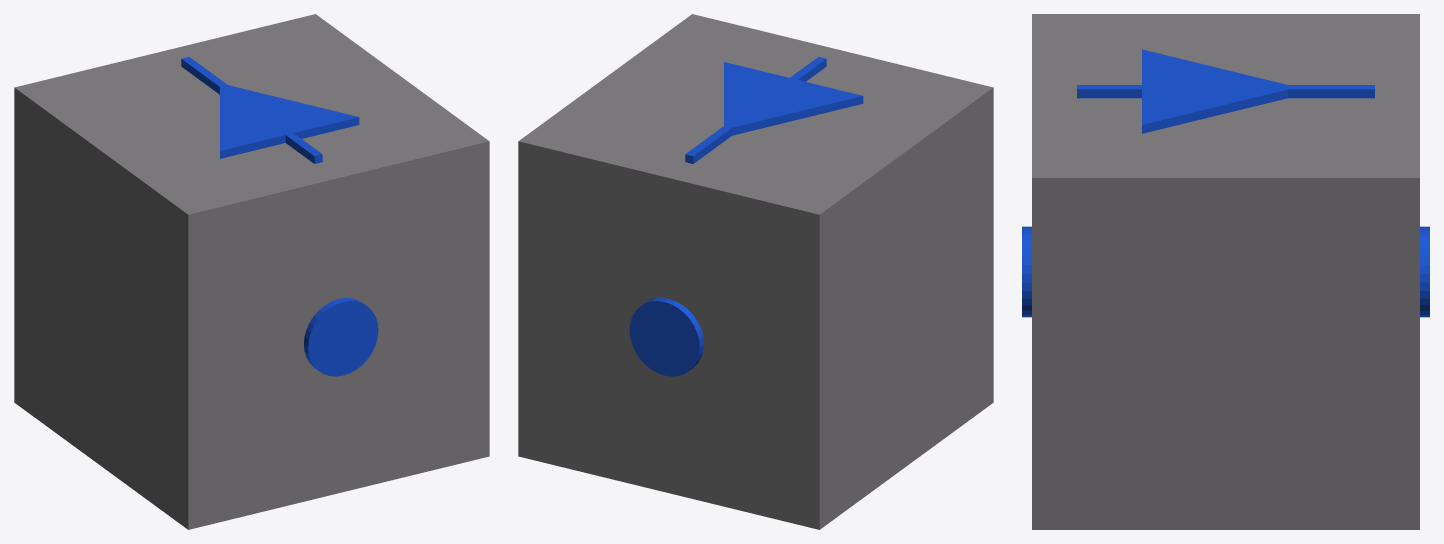
The model's file is BUFFER_gate.fbx.
The picture shows the model from 3 angles, left to right: view 1: azimuth 30°, elevation 25°; view 2: azimuth 150°, elevation 25°; view 3: azimuth 270°, elevation 25°; orthographic projection. The views are drawn at different scales.
Visible parts, largest first — view 1: Cube, Cylinder, Cylinder.002, Cube.003, Cube.001; view 2: Cube, Cylinder, Cylinder.003, Cube.003; view 3: Cube, Cylinder, Cube.003, Cylinder.002, Cylinder.003, Cube.001.
Part boxes in pixels (x1,y1,x2,y2): Cube: (14, 14, 489, 529); Cylinder: (220, 85, 359, 158); Cylinder.002: (304, 298, 378, 376); Cube.003: (181, 57, 234, 94); Cube.001: (280, 124, 322, 163); Cube: (518, 14, 993, 529); Cylinder: (724, 62, 863, 135); Cylinder.003: (629, 298, 703, 376); Cube.003: (685, 120, 739, 163); Cube: (1032, 14, 1419, 529); Cylinder: (1142, 49, 1288, 133); Cube.003: (1271, 85, 1374, 98); Cylinder.002: (1022, 226, 1031, 317); Cylinder.003: (1420, 226, 1429, 317); Cube.001: (1077, 85, 1141, 98).
Size of the model in its own units: 600 by 615 by 630.
